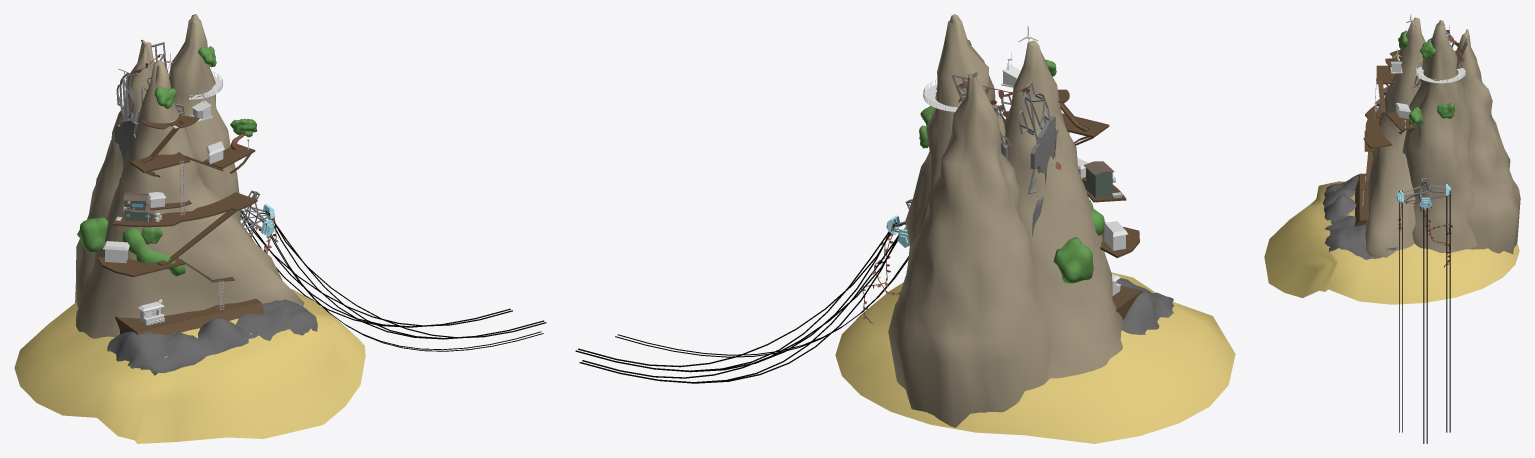
The picture shows the model from 3 angles, left to right: view 1: azimuth 30°, elevation 25°; view 2: azimuth 150°, elevation 25°; view 3: azimuth 270°, elevation 25°; orthographic projection. The views are drawn at different scales.
Parts seen in each view (by area): view 1: Plane.026, Circle.009, Plane.025, Circle.006, Circle.008, Cube.049, Mball.045, Plane.011, NurbsPath.007, NurbsPath.006, Cube.001, Plane.028 (+5 smaller); view 2: Circle.008, Plane.026, Circle.009, Circle.006, NurbsPath.006, NurbsPath.007, Plane.025, Mball.045, Cube, Cube.001, NurbsPath.010, maison1|Cube.034|Dupli|; view 3: Plane.026, Circle.006, Circle.008, Circle.009, Plane.025, NurbsPath.006, NurbsPath.007, Plane.011, Cube.049, NurbsPath.010, Cube.003, Plane.010 (+3 smaller).
Boxes of the visible parts, bbox=[...] form: Plane.026: bbox=[14, 289, 365, 443]; Circle.009: bbox=[75, 60, 304, 338]; Plane.025: bbox=[107, 299, 317, 375]; Circle.006: bbox=[169, 14, 240, 221]; Circle.008: bbox=[75, 39, 154, 307]; Cube.049: bbox=[115, 298, 264, 335]; Mball.045: bbox=[77, 217, 185, 276]; Plane.011: bbox=[112, 192, 257, 227]; NurbsPath.007: bbox=[265, 210, 546, 339]; NurbsPath.006: bbox=[240, 212, 512, 327]; Cube.001: bbox=[116, 42, 184, 165]; Plane.028: bbox=[97, 257, 185, 276]; Circle.008: bbox=[888, 72, 1051, 427]; Plane.026: bbox=[835, 272, 1235, 443]; Circle.009: bbox=[1004, 40, 1123, 378]; Circle.006: bbox=[898, 14, 1005, 299]; NurbsPath.006: bbox=[579, 236, 898, 383]; NurbsPath.007: bbox=[575, 222, 897, 372]; Plane.025: bbox=[1116, 278, 1174, 334]; Mball.045: bbox=[1053, 209, 1104, 283]; Cube: bbox=[992, 105, 1058, 236]; Cube.001: bbox=[951, 74, 1050, 194]; NurbsPath.010: bbox=[615, 256, 908, 357]; maison1|Cube.034|Dupli|: bbox=[1083, 168, 1112, 197]; Plane.026: bbox=[1264, 181, 1519, 304]; Circle.006: bbox=[1402, 20, 1477, 252]; Circle.008: bbox=[1456, 29, 1520, 254]; Circle.009: bbox=[1365, 17, 1425, 257]; Plane.025: bbox=[1323, 174, 1397, 259]; NurbsPath.006: bbox=[1446, 190, 1450, 432]; NurbsPath.007: bbox=[1423, 207, 1427, 443]; Plane.011: bbox=[1363, 104, 1392, 148]; Cube.049: bbox=[1354, 173, 1368, 226]; NurbsPath.010: bbox=[1399, 190, 1402, 432]; Cube.003: bbox=[1403, 178, 1448, 211]; Plane.010: bbox=[1376, 65, 1395, 84].
Size of the model in its own units: 13742 by 9527 by 7458.
